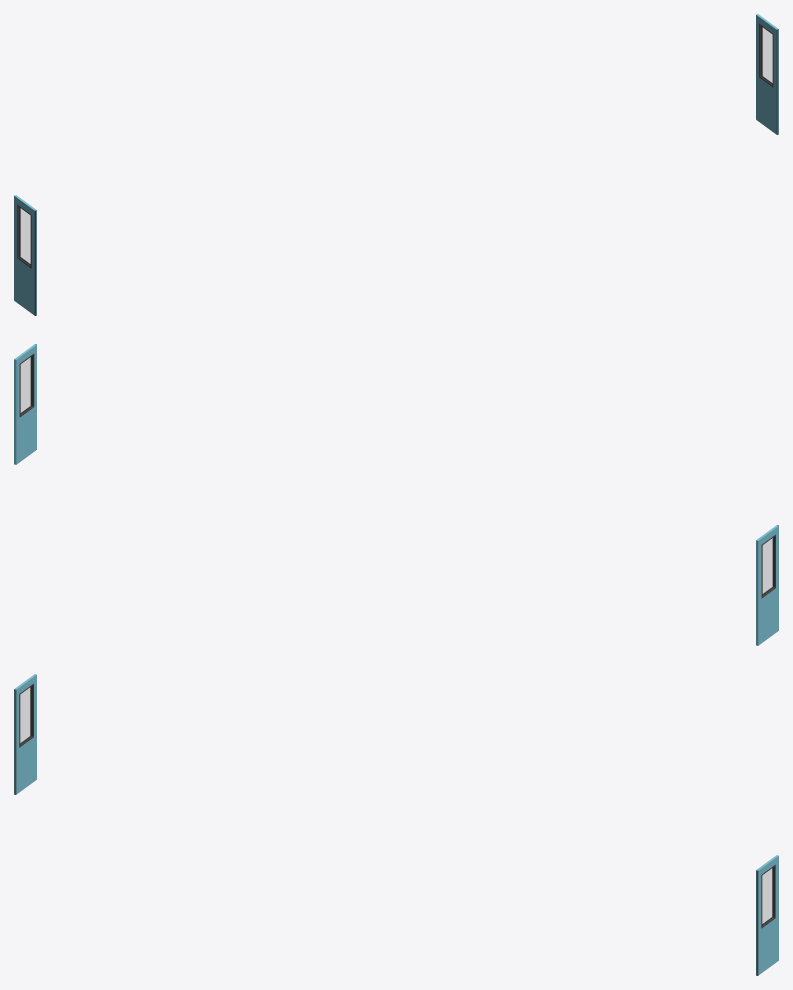
The model's file is door1.fbx.
3 views of the same model, one above another, from view 1: azimuth 30°, elevation 25°; view 2: azimuth 150°, elevation 25°; view 3: azimuth 330°, elevation 25° (orthographic).
Visible parts, largest first — view 1: Cube; view 2: Cube; view 3: Cube.
Part boxes in pixels (x1,y1,x2,y2): Cube: (14,14,778,315); Cube: (14,344,778,645); Cube: (14,674,778,975).
Bounding box in the file's own units: 2553 × 344 × 126.
